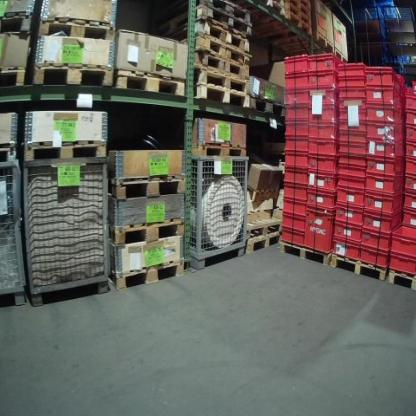pallet: (109, 258, 186, 289), (113, 67, 187, 98), (110, 216, 186, 246), (32, 62, 113, 90), (37, 17, 117, 43), (109, 174, 187, 200), (21, 139, 109, 161), (329, 251, 387, 283), (195, 35, 250, 64), (196, 21, 251, 50), (196, 9, 254, 35), (278, 241, 331, 268), (196, 55, 251, 79), (195, 69, 249, 92), (189, 140, 250, 159), (197, 86, 249, 108), (248, 92, 286, 119), (201, 4, 251, 24), (244, 231, 280, 254), (245, 217, 284, 238), (0, 10, 33, 34), (387, 267, 416, 293), (287, 14, 313, 36), (0, 65, 26, 86), (313, 30, 335, 54), (286, 5, 310, 24), (261, 1, 284, 16), (0, 143, 18, 162), (333, 48, 348, 65), (288, 2, 310, 10)
small_load_carrier: (304, 205, 335, 256), (364, 65, 405, 95), (364, 194, 402, 220), (366, 88, 406, 112), (363, 209, 402, 233), (361, 176, 402, 198), (365, 157, 404, 180), (366, 105, 405, 127), (364, 123, 405, 143), (365, 142, 405, 160), (359, 246, 391, 268), (360, 226, 392, 248), (309, 54, 341, 74), (308, 86, 340, 106), (333, 240, 360, 262), (309, 122, 340, 141), (391, 234, 416, 257), (388, 257, 415, 278), (308, 156, 339, 174), (306, 193, 337, 211), (338, 206, 364, 227), (308, 174, 340, 190), (309, 106, 340, 122), (308, 71, 341, 86), (308, 141, 339, 156), (333, 227, 364, 242), (283, 56, 310, 73), (335, 108, 366, 122), (285, 73, 309, 91), (333, 88, 368, 100), (285, 152, 309, 169), (339, 62, 367, 76), (286, 105, 309, 122), (284, 122, 307, 139), (338, 178, 365, 192), (284, 91, 309, 106), (284, 170, 309, 185), (284, 185, 307, 201), (340, 154, 366, 168), (338, 165, 366, 178), (338, 192, 364, 206), (282, 216, 303, 233), (282, 202, 307, 216), (335, 77, 368, 86), (339, 132, 366, 143), (285, 139, 307, 152), (403, 173, 416, 194), (402, 193, 415, 214), (339, 122, 366, 132), (335, 100, 368, 108), (340, 144, 366, 154), (282, 233, 303, 245), (404, 90, 415, 111), (404, 157, 415, 176), (402, 211, 415, 227), (406, 125, 416, 144), (406, 144, 416, 162), (406, 111, 415, 127)
stillage: (22, 152, 114, 314), (183, 147, 252, 272), (1, 156, 27, 310)
